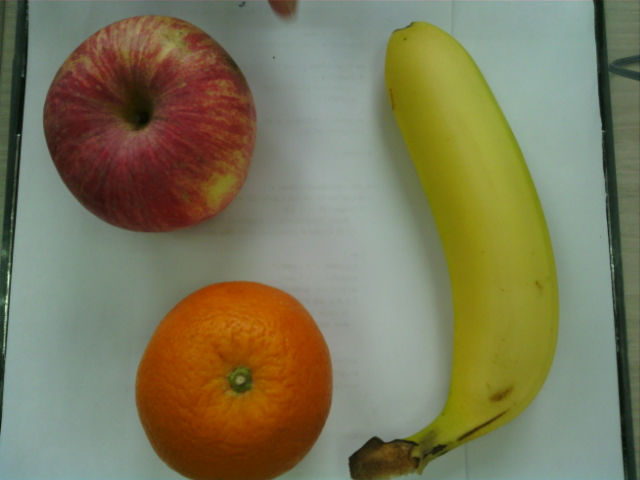fresh_orange: (138, 279, 335, 480)
normal_apple: (42, 14, 257, 234)
normal_banana: (353, 22, 562, 479)
